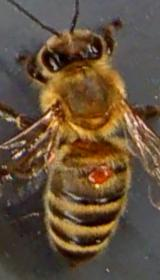varroa_mite: (84, 160, 122, 190)
